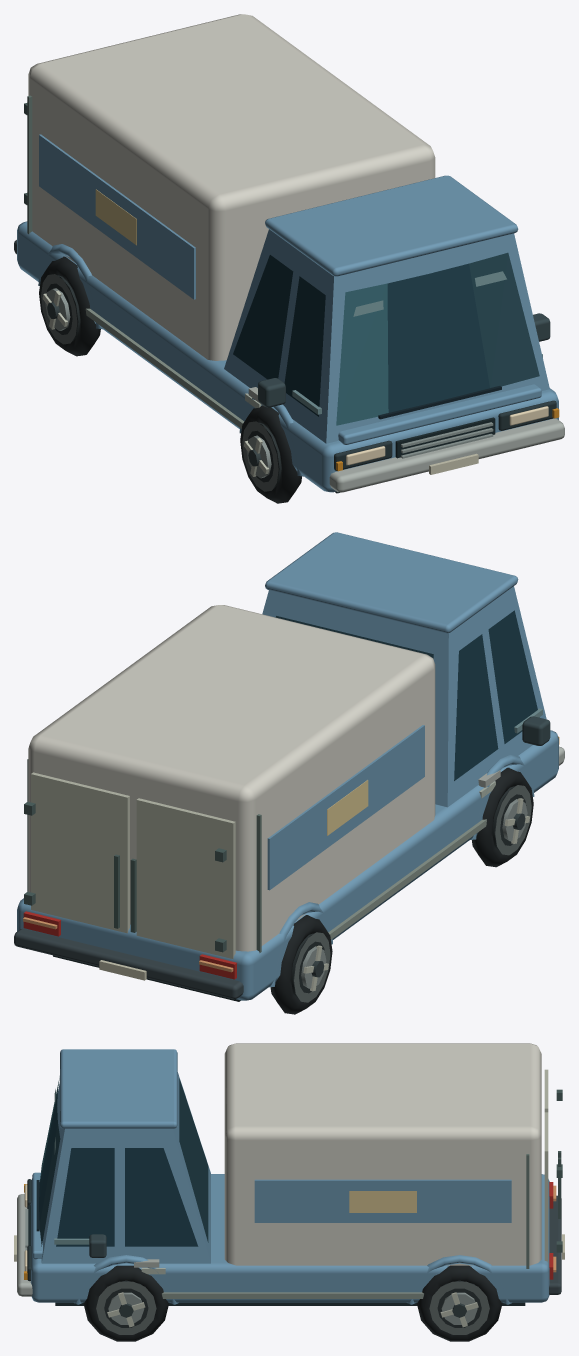
The model's file is van.glb.
3 renders of one model, top to bottom at view 1: azimuth 30°, elevation 25°; view 2: azimuth 150°, elevation 25°; view 3: azimuth 270°, elevation 25°, orthographic. The views are drawn at different scales.
Parts seen in each view (by area): view 1: van_body; view 2: van_body; view 3: van_body.
Part boxes in pixels (bbox=[...]): van_body: bbox=[14, 14, 564, 503]; van_body: bbox=[14, 532, 564, 1014]; van_body: bbox=[14, 1043, 564, 1341].
Size of the model in its own units: 2.49 by 2.12 by 5.04.
